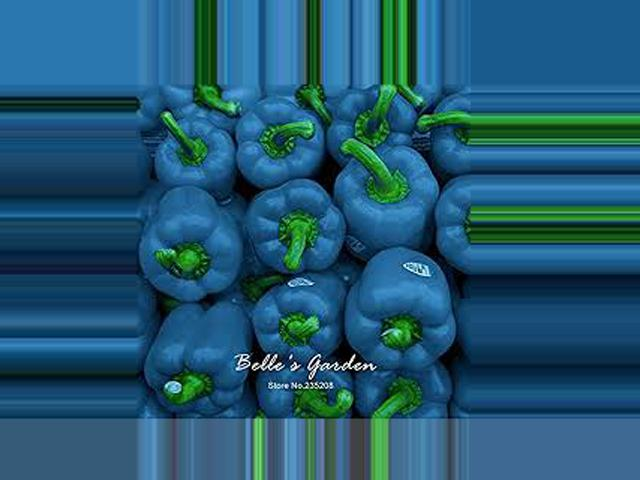bell_pepper: (348, 351, 462, 420)
